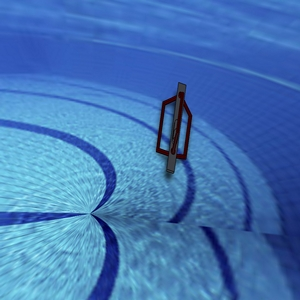submarine: (138, 57, 216, 189)
